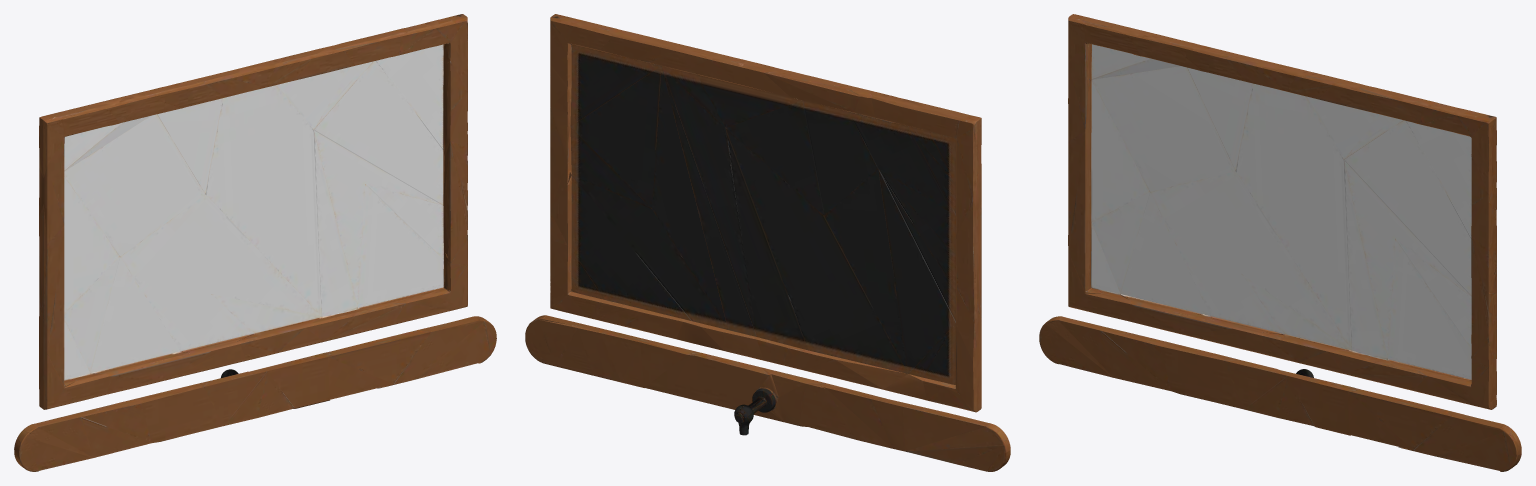
Rendered from bath_mirror.glb.
3 renders of one model, left to right at view 1: azimuth 30°, elevation 25°; view 2: azimuth 150°, elevation 25°; view 3: azimuth 330°, elevation 25°, orthographic.
Size of the model in its own units: 1.9 by 1.32 by 0.2242.
Materials: 1 (1 with a texture image).
